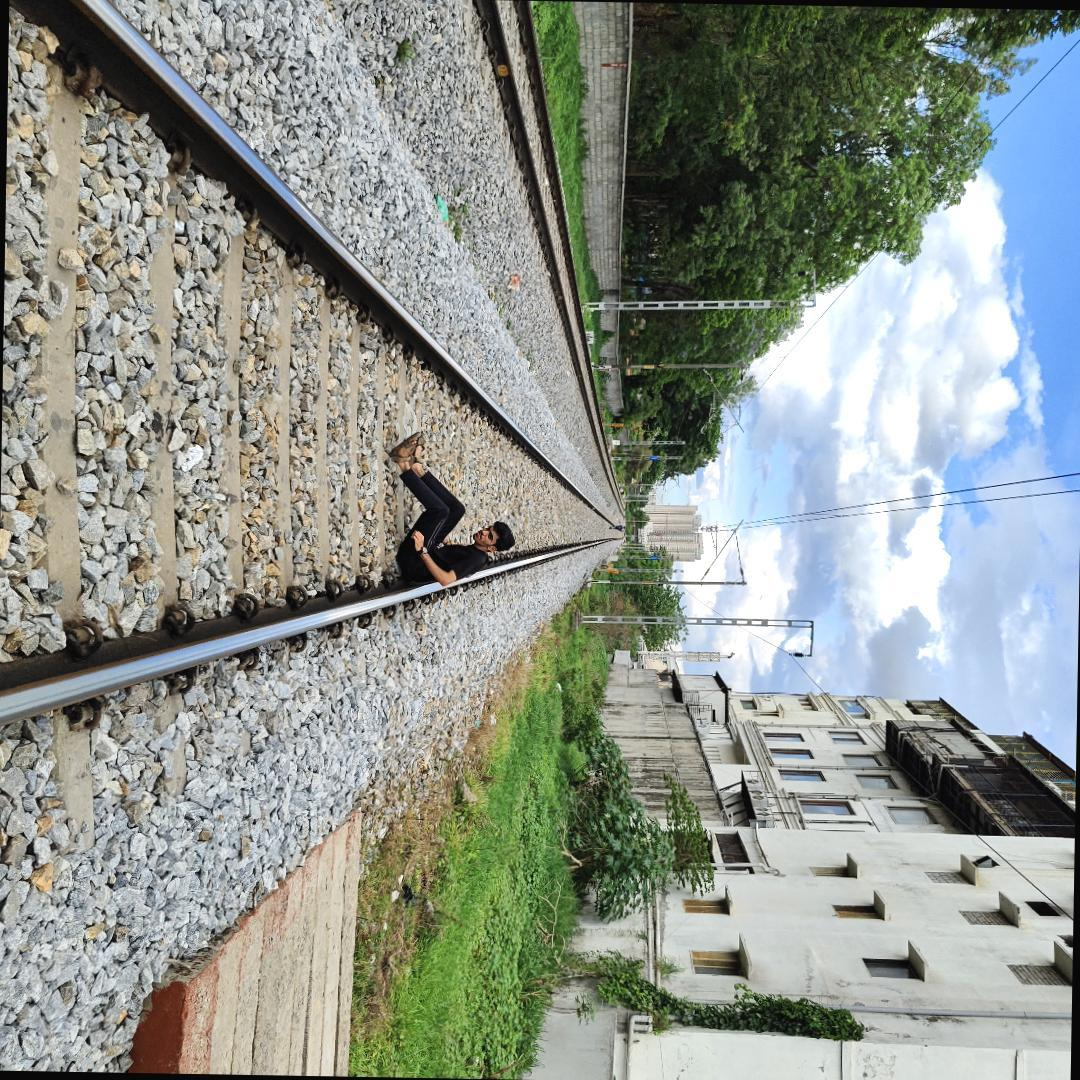sitting: (384, 425, 528, 598)
